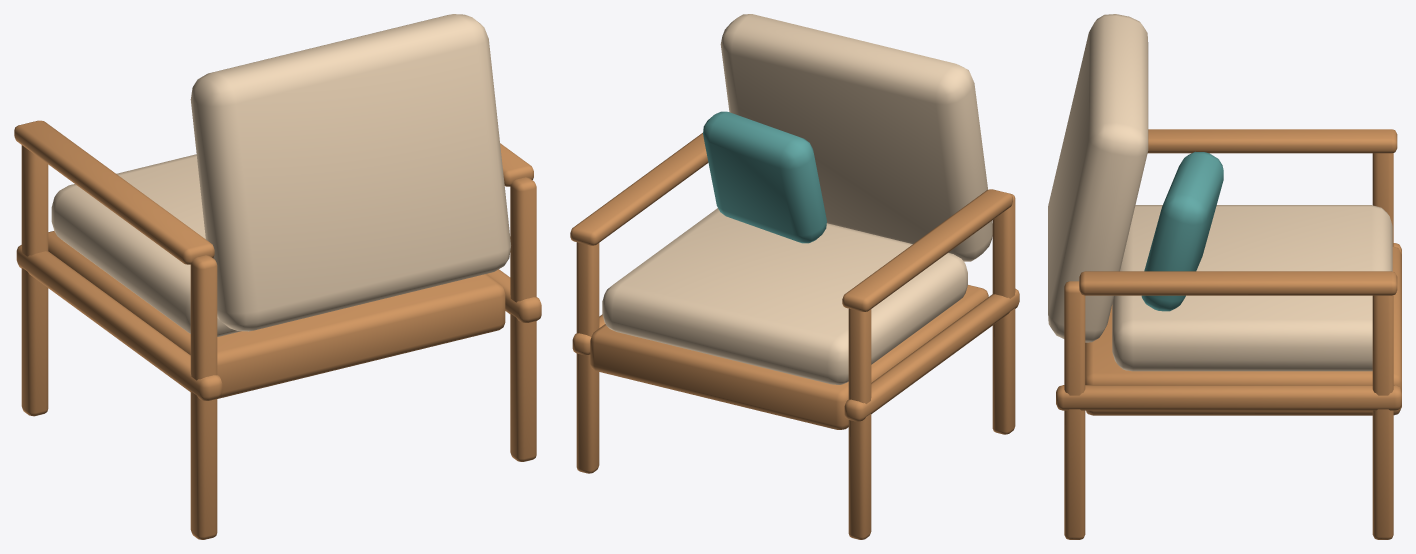
File: senior_armchair.glb
The picture shows the model from 3 angles, left to right: view 1: azimuth 30°, elevation 25°; view 2: azimuth 150°, elevation 25°; view 3: azimuth 270°, elevation 25°; orthographic projection. The views are drawn at different scales.
Visible parts, largest first — view 1: senior_armchair__Cushion, senior_armchair__Wood; view 2: senior_armchair__Cushion, senior_armchair__Wood, senior_armchair__PillowTeal; view 3: senior_armchair__Cushion, senior_armchair__Wood, senior_armchair__PillowTeal.
Part boxes in pixels (bbox=[...]): senior_armchair__Cushion: bbox=[51, 14, 510, 336]; senior_armchair__Wood: bbox=[14, 120, 541, 539]; senior_armchair__Cushion: bbox=[602, 14, 992, 384]; senior_armchair__Wood: bbox=[570, 133, 1019, 539]; senior_armchair__PillowTeal: bbox=[703, 111, 826, 243]; senior_armchair__Cushion: bbox=[1048, 14, 1392, 371]; senior_armchair__Wood: bbox=[1056, 129, 1401, 539]; senior_armchair__PillowTeal: bbox=[1141, 151, 1223, 311].
Bounding box in the file's own units: 0.79 × 0.9374 × 0.7572.
